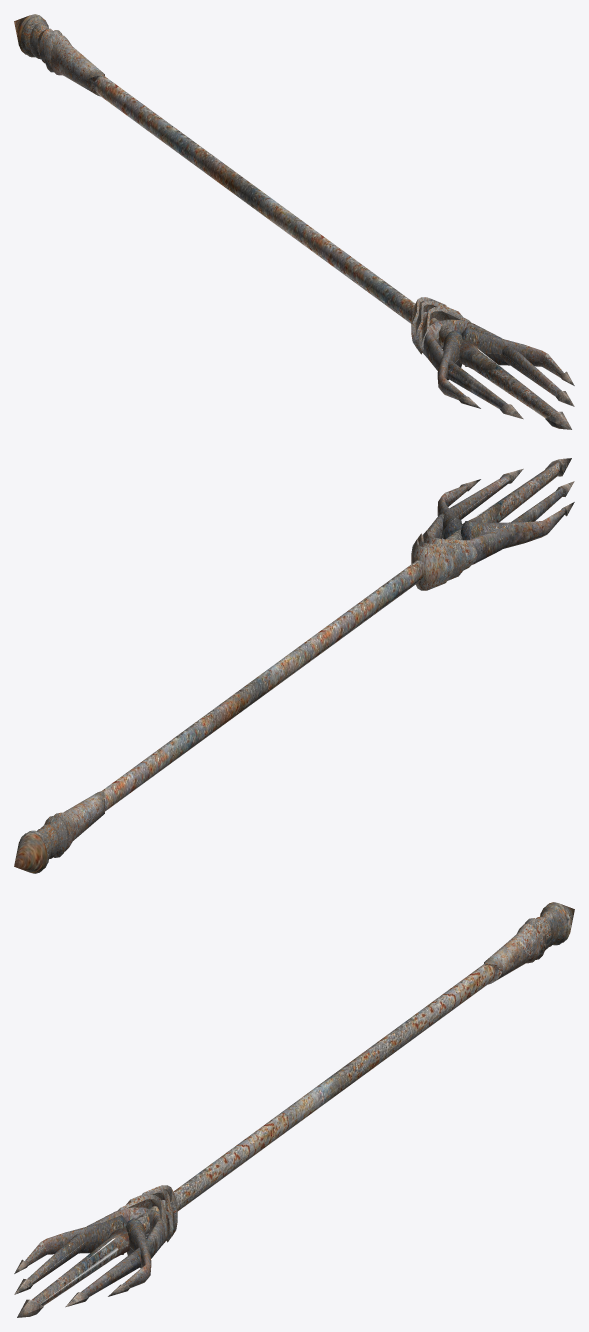
The model's file is trident_rusty.glb.
3 renders of one model, top to bottom at view 1: azimuth 30°, elevation 25°; view 2: azimuth 150°, elevation 25°; view 3: azimuth 330°, elevation 25°, orthographic.
Visible parts, largest first — view 1: Cylinder015_trident_0; view 2: Cylinder015_trident_0; view 3: Cylinder015_trident_0.
Part boxes in pixels (bbox=[...]): Cylinder015_trident_0: bbox=[14, 14, 574, 429]; Cylinder015_trident_0: bbox=[14, 458, 574, 873]; Cylinder015_trident_0: bbox=[14, 902, 574, 1317].
Bounding box in the file's own units: 14.93 × 5.78 × 133.
1 material, 1 textured.
